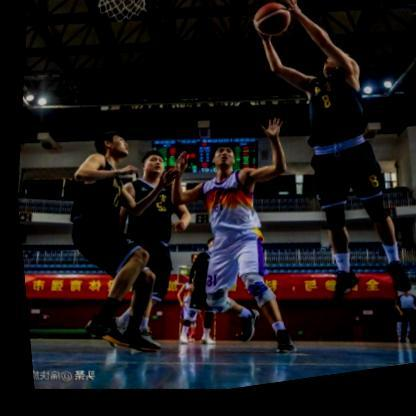basketball: (249, 5, 291, 49)
